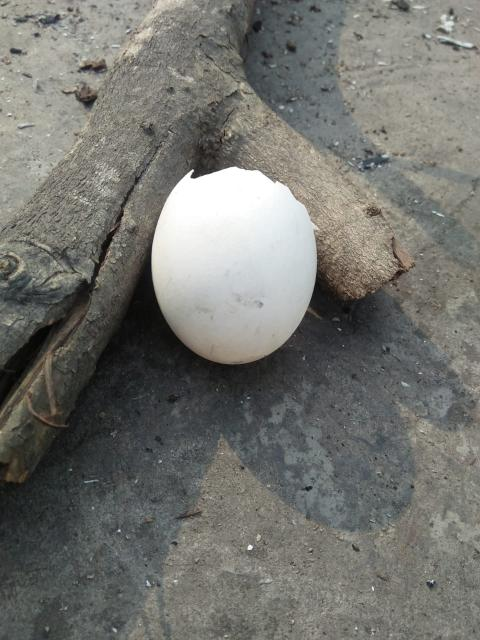Roto: (150, 164, 318, 366)
